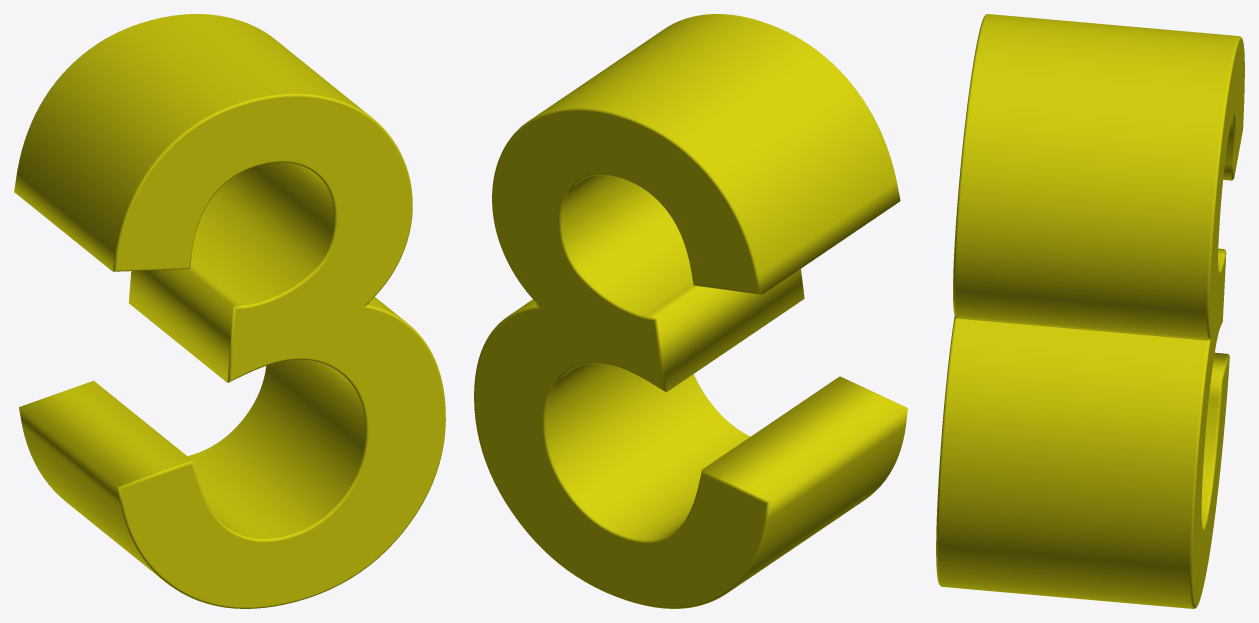
3 renders of one model, left to right at view 1: azimuth 30°, elevation 25°; view 2: azimuth 150°, elevation 25°; view 3: azimuth 270°, elevation 25°, orthographic. The views are drawn at different scales.
Parts seen in each view (by area): view 1: Text; view 2: Text; view 3: Text.
Part boxes in pixels (<box>): Text: <box>14,14,445,608</box>; Text: <box>474,14,907,608</box>; Text: <box>936,14,1244,608</box>.
Bounding box in the file's own units: 96.93 × 143 × 73.5.
